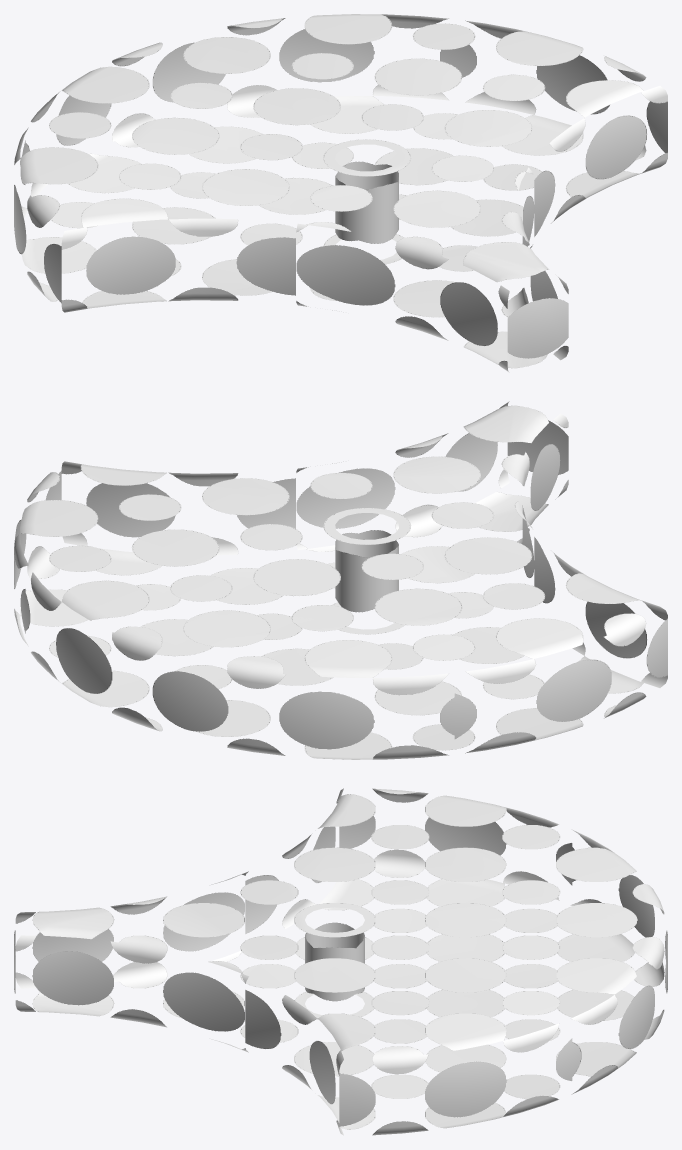
The picture shows the model from 3 angles, top to bottom: view 1: azimuth 30°, elevation 25°; view 2: azimuth 150°, elevation 25°; view 3: azimuth 270°, elevation 25°; orthographic projection. The views are drawn at different scales.
Visible parts, largest first — view 1: OriginalScallop.003; view 2: OriginalScallop.003; view 3: OriginalScallop.003.
Boxes of the visible parts, x1,y1,x2,y2 form: OriginalScallop.003: [14, 14, 667, 372]; OriginalScallop.003: [14, 401, 667, 759]; OriginalScallop.003: [14, 788, 667, 1135].
Size of the model in its own units: 510 by 72.02 by 510.
